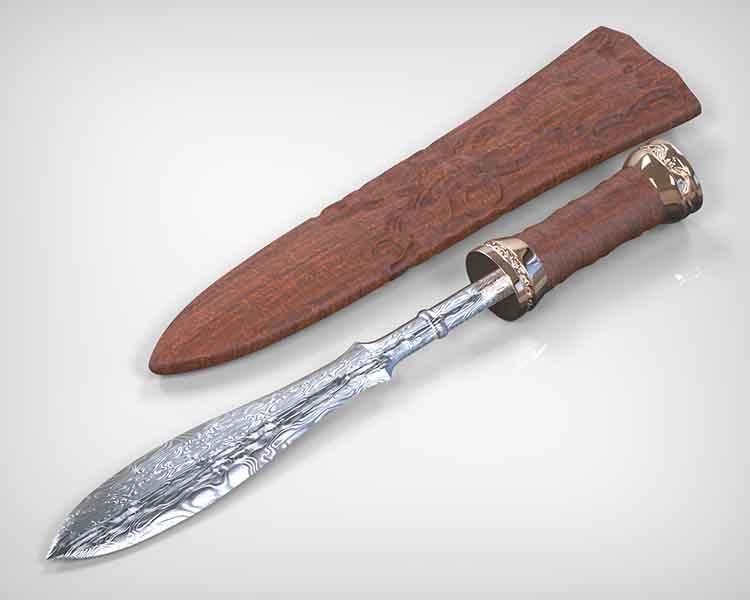faca: (47, 140, 702, 559)
